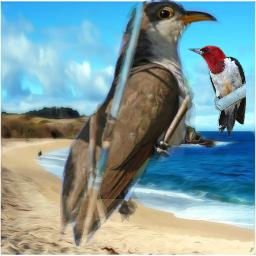Cuckoo: (60, 0, 256, 247)
Woodpecker: (188, 45, 246, 138)
